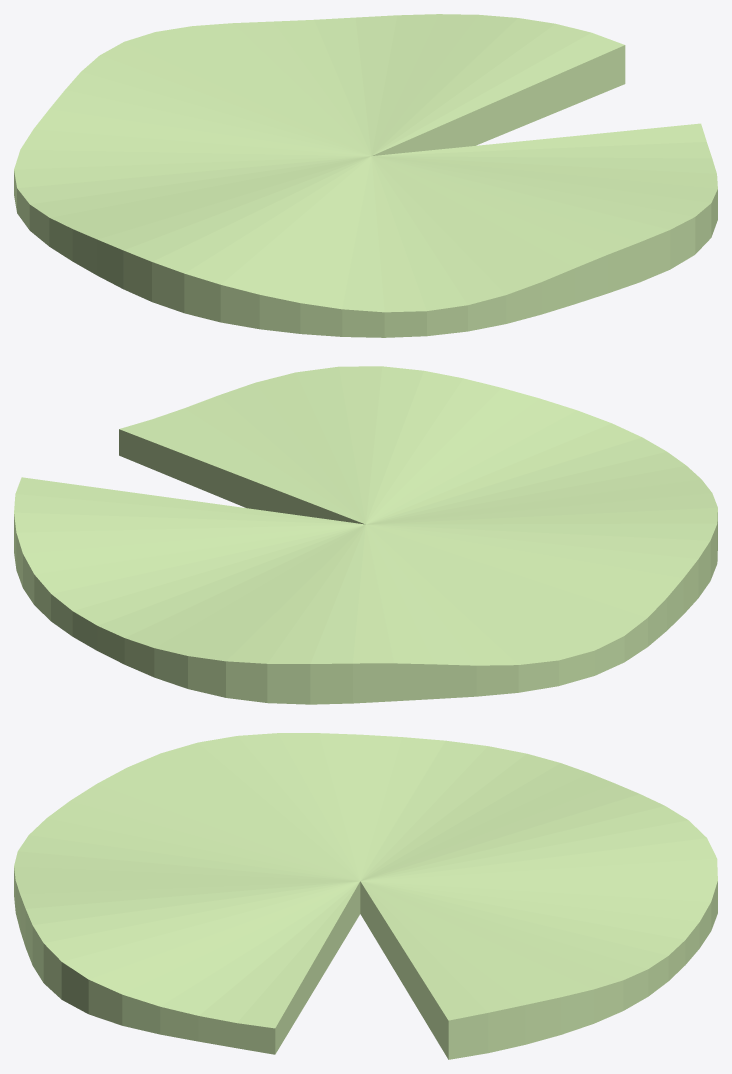
Rendered from lily_pad_single.glb.
3 views of the same model, one above another, from view 1: azimuth 30°, elevation 25°; view 2: azimuth 150°, elevation 25°; view 3: azimuth 270°, elevation 25° (orthographic).
Parts seen in each view (by area): view 1: lily_pad_single_00; view 2: lily_pad_single_00; view 3: lily_pad_single_00.
Part boxes in pixels (x1,y1,x2,y2): lily_pad_single_00: (14,14,717,337); lily_pad_single_00: (14,366,717,704); lily_pad_single_00: (14,733,717,1059).
Bounding box in the file's own units: 1.15 × 0.0739 × 1.17.
